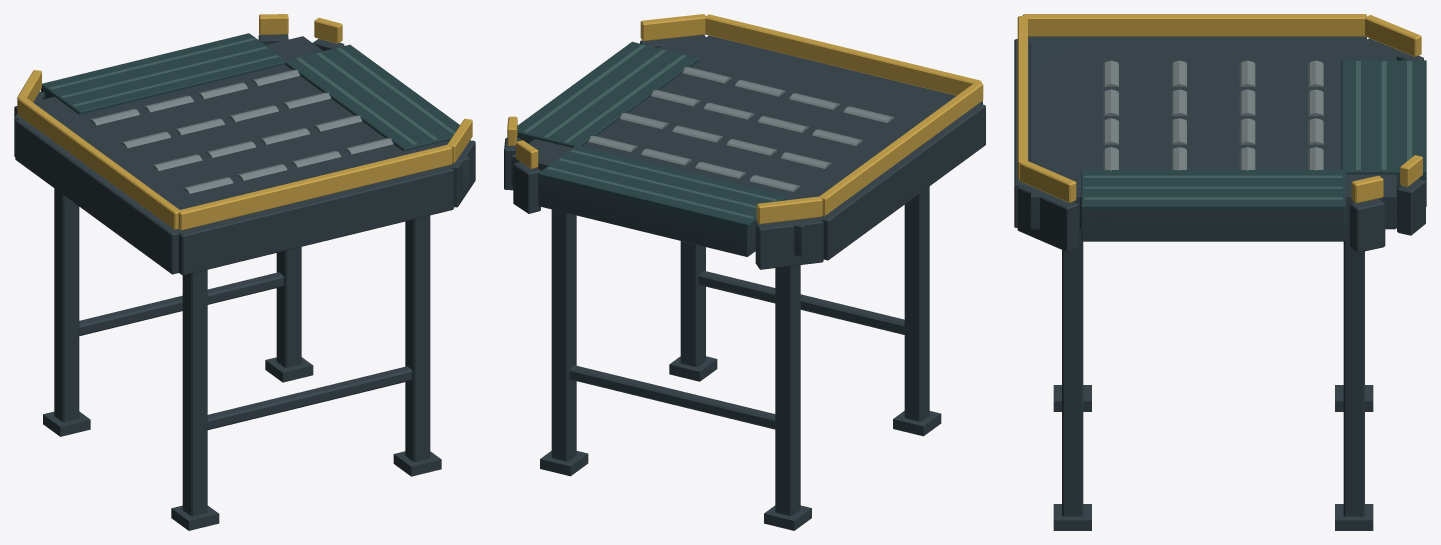
File: conveyor-corner.glb
The picture shows the model from 3 angles, left to right: view 1: azimuth 30°, elevation 25°; view 2: azimuth 150°, elevation 25°; view 3: azimuth 270°, elevation 25°; orthographic projection. The views are drawn at different scales.
Visible parts, largest first — view 1: conveyor-corner__material_01, conveyor-corner__material_04, conveyor-corner__material_03, conveyor-corner__material_02, conveyor-corner__material_00; view 2: conveyor-corner__material_01, conveyor-corner__material_04, conveyor-corner__material_03, conveyor-corner__material_02, conveyor-corner__material_00; view 3: conveyor-corner__material_01, conveyor-corner__material_04, conveyor-corner__material_03, conveyor-corner__material_02, conveyor-corner__material_00.
Part boxes in pixels (box(x1,y1,x2,y2)): conveyor-corner__material_01: box(14, 34, 475, 530); conveyor-corner__material_04: box(41, 33, 459, 151); conveyor-corner__material_03: box(17, 14, 472, 230); conveyor-corner__material_02: box(89, 70, 393, 193); conveyor-corner__material_00: box(50, 38, 455, 144); conveyor-corner__material_01: box(504, 34, 985, 530); conveyor-corner__material_04: box(517, 41, 786, 247); conveyor-corner__material_03: box(507, 14, 983, 224); conveyor-corner__material_02: box(588, 67, 894, 191); conveyor-corner__material_00: box(523, 45, 777, 218); conveyor-corner__material_01: box(1014, 36, 1426, 530); conveyor-corner__material_04: box(1081, 60, 1426, 230); conveyor-corner__material_03: box(1017, 14, 1422, 203); conveyor-corner__material_02: box(1103, 60, 1323, 170); conveyor-corner__material_00: box(1084, 61, 1412, 199).
Size of the model in its own units: 0.967 by 0.95 by 0.967.
